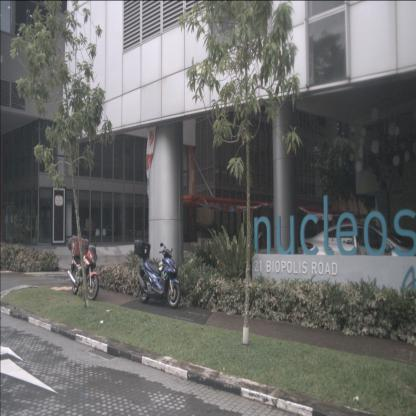vehicle-car: (302, 223, 416, 290)
vehicle-motorcycle: (134, 240, 181, 308), (68, 236, 100, 300)
